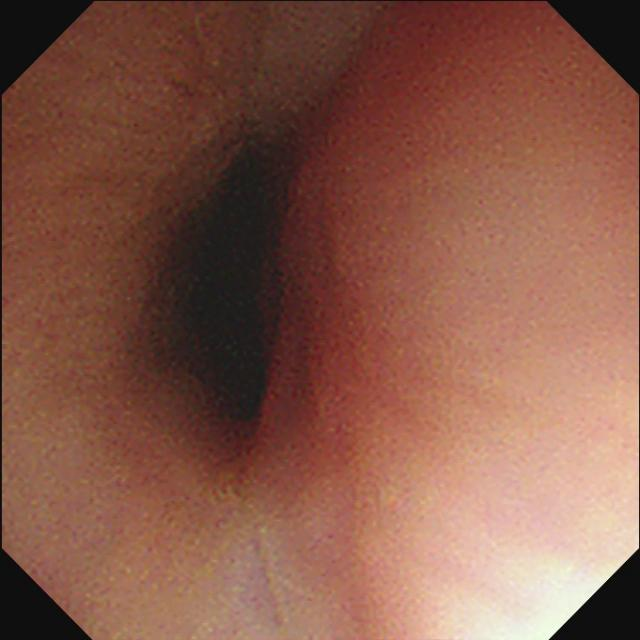E: (174, 165, 278, 418)
